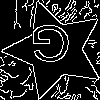G: (30, 24, 72, 71)
